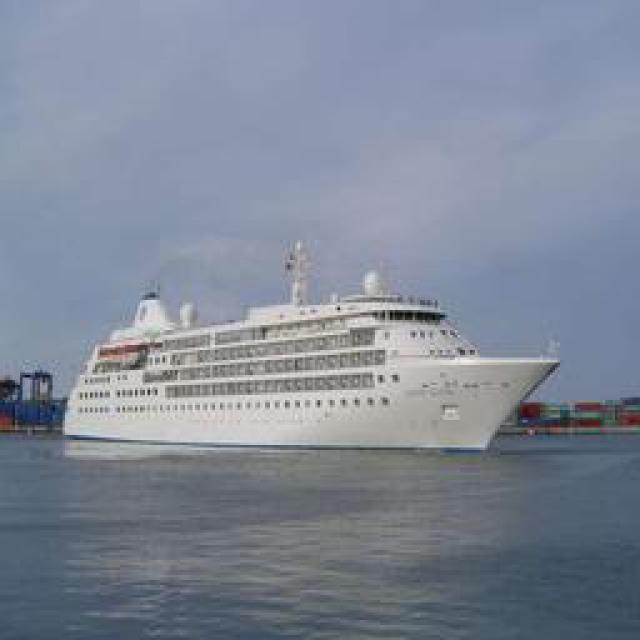Ship: (62, 255, 560, 453)
